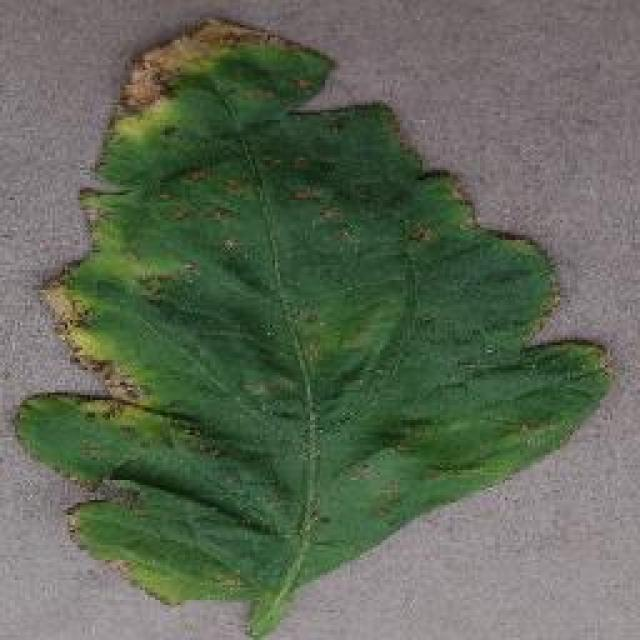Tomato___Bacterial_spot: (18, 12, 623, 638)
